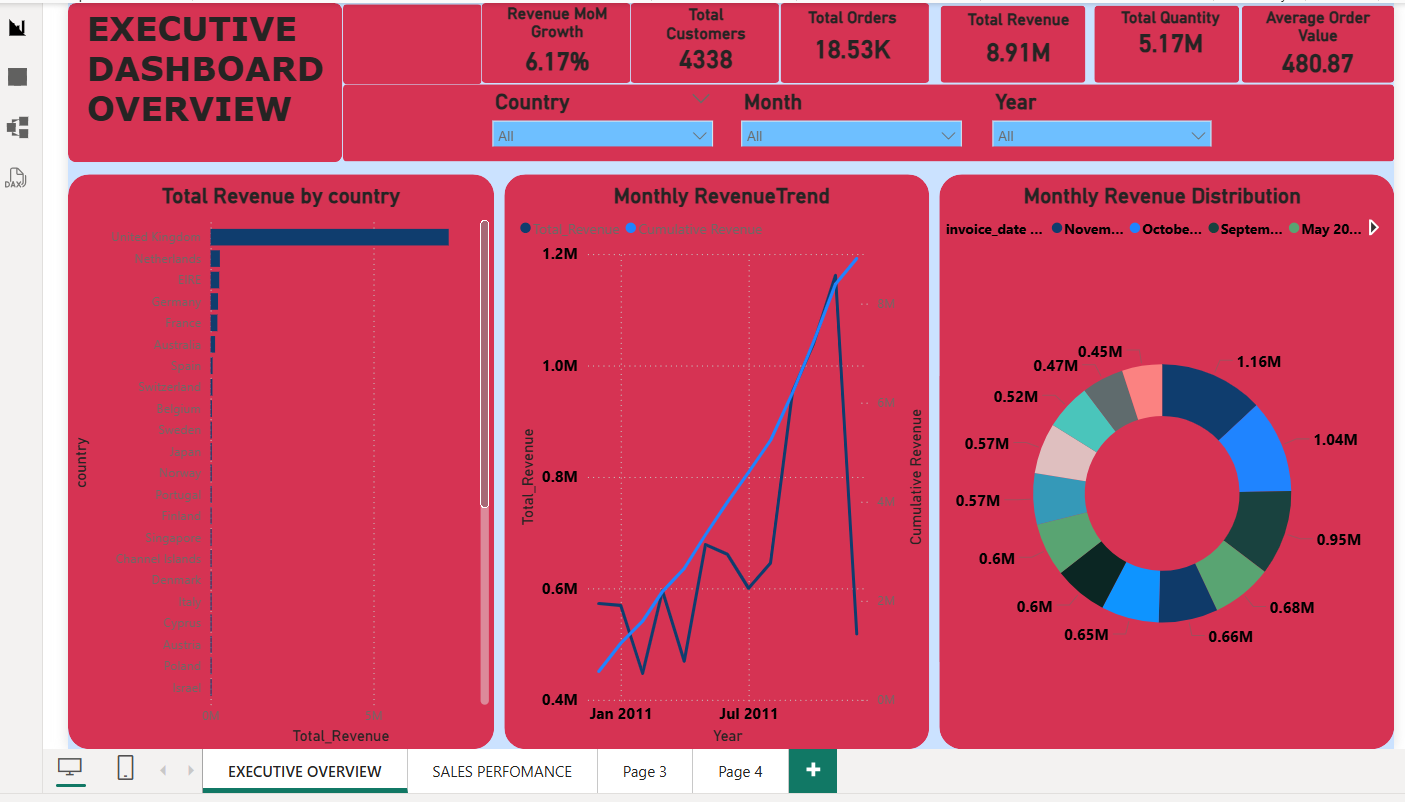

The dashboard page shown, as its layout file describes it:
{"tool":"powerbi","page":{"name":"EXECUTIVE OVERVIEW","canvas":[1280,720],"ordinal":0},"visuals":[{"type":"shape","box":[0,0,264.8,153.7],"z":0},{"type":"shape","box":[1132.8,2.4,147.2,74.8],"z":1000},{"type":"shape","box":[842.1,2.4,139.9,74.8],"z":2000},{"type":"shape","box":[990.5,2.4,139.9,74.8],"z":3000},{"type":"shape","box":[687.7,0,143.6,77.2],"z":4000},{"type":"shape","box":[265.4,78.4,1014.6,74.8],"z":5000},{"type":"shape","box":[0,165.3,411.4,555],"z":6000},{"type":"shape","box":[840.9,165.3,439.1,555],"z":7000},{"type":"shape","box":[421,165.3,410.2,555],"z":8000},{"type":"card","title":"Total Orders","fields":{"Values":["retail vw_sales_analytics.Total_Orders"]},"box":[696.1,4.8,121.9,61.5],"z":9000},{"type":"card","title":"Total Revenue","fields":{"Values":["retail vw_sales_analytics.Total_Revenue"]},"box":[853,7.2,129.1,61.5],"z":10000},{"type":"card","title":"Total Quantity","fields":{"Values":["retail vw_sales_analytics.Total_Quantity_Sold"]},"box":[997.7,4.8,132.7,48.3],"z":11000},{"type":"card","title":"Average Order Value","fields":{"Values":["retail vw_sales_analytics.Average_Order_Value"]},"box":[1132.8,4.8,147.2,70],"z":12000},{"type":"donutChart","title":"Monthly Revenue Distribution","fields":{"Category":["retail vw_sales_analytics.invoice_date.Variation.Date Hierarchy.Month","retail vw_sales_analytics.invoice_date.Variation.Date Hierarchy.Year"],"Y":["retail vw_sales_analytics.Total_Revenue"]},"box":[842.1,173.7,428.3,546.5],"z":13000},{"type":"lineChart","title":"Monthly RevenueTrend","fields":{"Category":["retail vw_sales_analytics.invoice_date.Variation.Date Hierarchy.Year","retail vw_sales_analytics.invoice_date.Variation.Date Hierarchy.Month"],"Y":["retail vw_sales_analytics.Total_Revenue"],"Y2":["retail vw_sales_analytics.Cumulative Revenue"]},"box":[430.7,173.7,400.5,546.5],"z":14000},{"type":"clusteredBarChart","title":"Total Revenue by country","fields":{"Category":["retail vw_sales_analytics.country"],"Y":["retail vw_sales_analytics.Total_Revenue"]},"box":[0,173.7,411.4,546.5],"z":15000},{"type":"slicer","fields":{"Values":["retail vw_sales_analytics.country"]},"box":[399.3,78.4,232.8,60.3],"z":16000},{"type":"slicer","fields":{"Values":["retail vw_sales_analytics.invoice_date.Variation.Date Hierarchy.Month"]},"box":[639.4,78.4,232.8,60.3],"z":17000},{"type":"slicer","fields":{"Values":["retail vw_sales_analytics.invoice_date.Variation.Date Hierarchy.Year"]},"box":[881.9,78.4,231.6,60.3],"z":18000},{"type":"textbox","box":[13.7,0,241.5,153.7],"z":19000},{"type":"shape","box":[399.3,0,143.6,77.2],"z":19001},{"type":"shape","box":[542.9,0,143.6,77.2],"z":19002},{"type":"shape","box":[265.4,1.2,133.9,77.2],"z":19003},{"type":"card","title":"Revenue MoM Growth","fields":{"Values":["retail vw_sales_analytics.Revenue MoM% Growth"]},"box":[411.4,1.2,121.9,73.6],"z":19004},{"type":"card","title":"Total Customers","fields":{"Values":["retail vw_sales_analytics.Total Customers"]},"box":[555,2.4,121.9,66.4],"z":19005}]}

Visuals, with their boxes in screenshot pixels (x1, y1, x2, y2):
shape: pyautogui.locateOnScreen(59, 0, 335, 157)
shape: pyautogui.locateOnScreen(1241, 0, 1395, 77)
shape: pyautogui.locateOnScreen(938, 0, 1084, 77)
shape: pyautogui.locateOnScreen(1093, 0, 1239, 77)
shape: pyautogui.locateOnScreen(777, 0, 927, 77)
shape: pyautogui.locateOnScreen(336, 78, 1395, 156)
shape: pyautogui.locateOnScreen(59, 169, 488, 748)
shape: pyautogui.locateOnScreen(937, 169, 1395, 748)
shape: pyautogui.locateOnScreen(498, 169, 926, 748)
"Total Orders" card: pyautogui.locateOnScreen(785, 1, 913, 66)
"Total Revenue" card: pyautogui.locateOnScreen(949, 4, 1084, 68)
"Total Quantity" card: pyautogui.locateOnScreen(1100, 1, 1239, 52)
"Average Order Value" card: pyautogui.locateOnScreen(1241, 1, 1395, 74)
"Monthly Revenue Distribution" donutChart: pyautogui.locateOnScreen(938, 178, 1385, 748)
"Monthly RevenueTrend" lineChart: pyautogui.locateOnScreen(508, 178, 926, 748)
"Total Revenue by country" clusteredBarChart: pyautogui.locateOnScreen(59, 178, 488, 748)
slicer - retail vw_sales_analytics.country: pyautogui.locateOnScreen(475, 78, 719, 141)
slicer - retail vw_sales_analytics.invoice_date.Variation.Date Hierarchy.Month: pyautogui.locateOnScreen(726, 78, 969, 141)
slicer - retail vw_sales_analytics.invoice_date.Variation.Date Hierarchy.Year: pyautogui.locateOnScreen(979, 78, 1221, 141)
textbox: pyautogui.locateOnScreen(73, 0, 325, 157)
shape: pyautogui.locateOnScreen(475, 0, 625, 77)
shape: pyautogui.locateOnScreen(625, 0, 775, 77)
shape: pyautogui.locateOnScreen(336, 0, 475, 78)
"Revenue MoM Growth" card: pyautogui.locateOnScreen(488, 0, 615, 74)
"Total Customers" card: pyautogui.locateOnScreen(638, 0, 765, 68)
